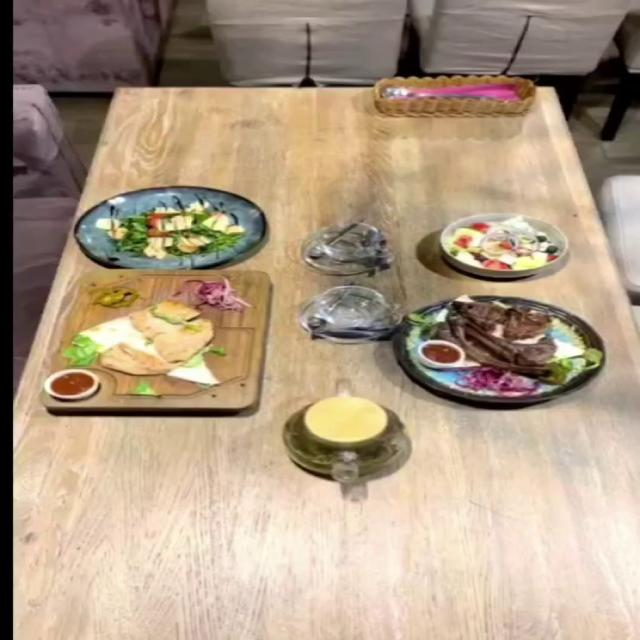meat: (392, 294, 608, 403)
salat: (73, 185, 266, 268), (437, 212, 570, 276)
tea: (280, 396, 410, 481)
